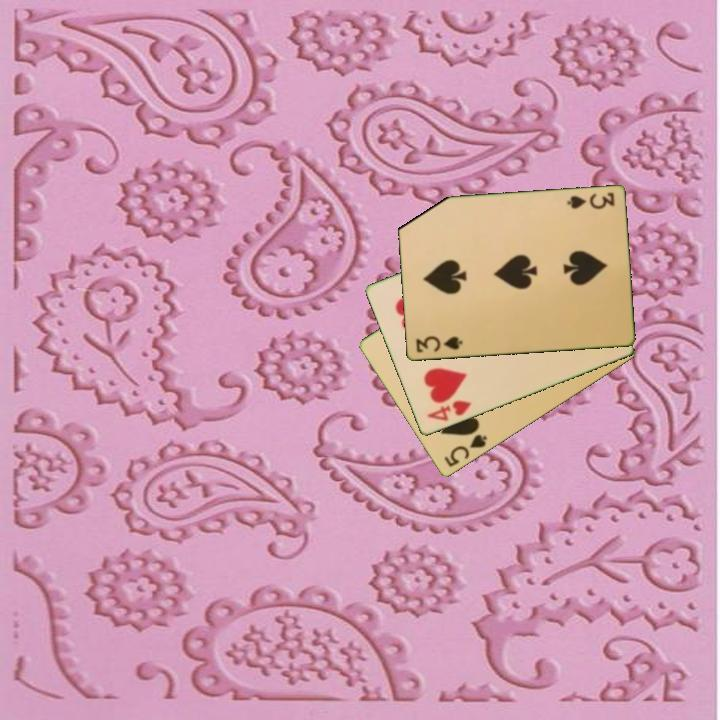3s: (563, 189, 617, 213), (412, 333, 465, 356)
4h: (423, 397, 474, 424)
5s: (440, 431, 490, 470)
